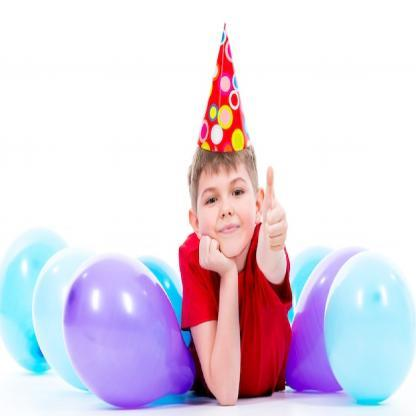thumb_up: (256, 160, 296, 254)
